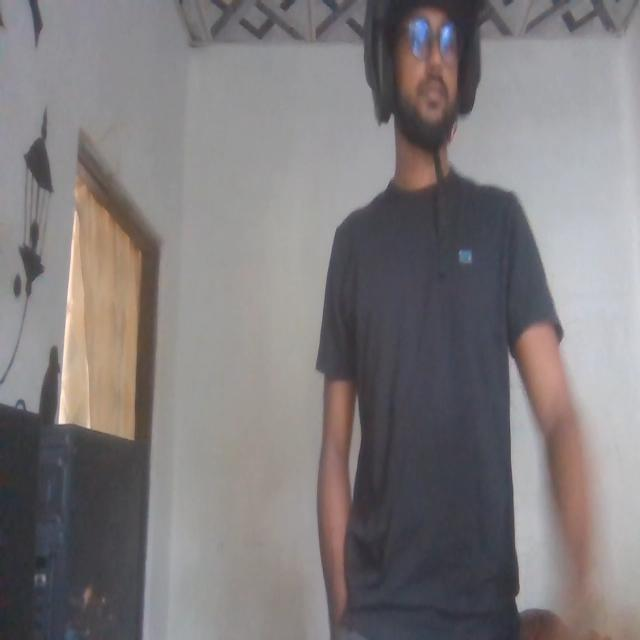Helmet_Wearer: (368, 0, 486, 192)
Person: (312, 0, 600, 640)
